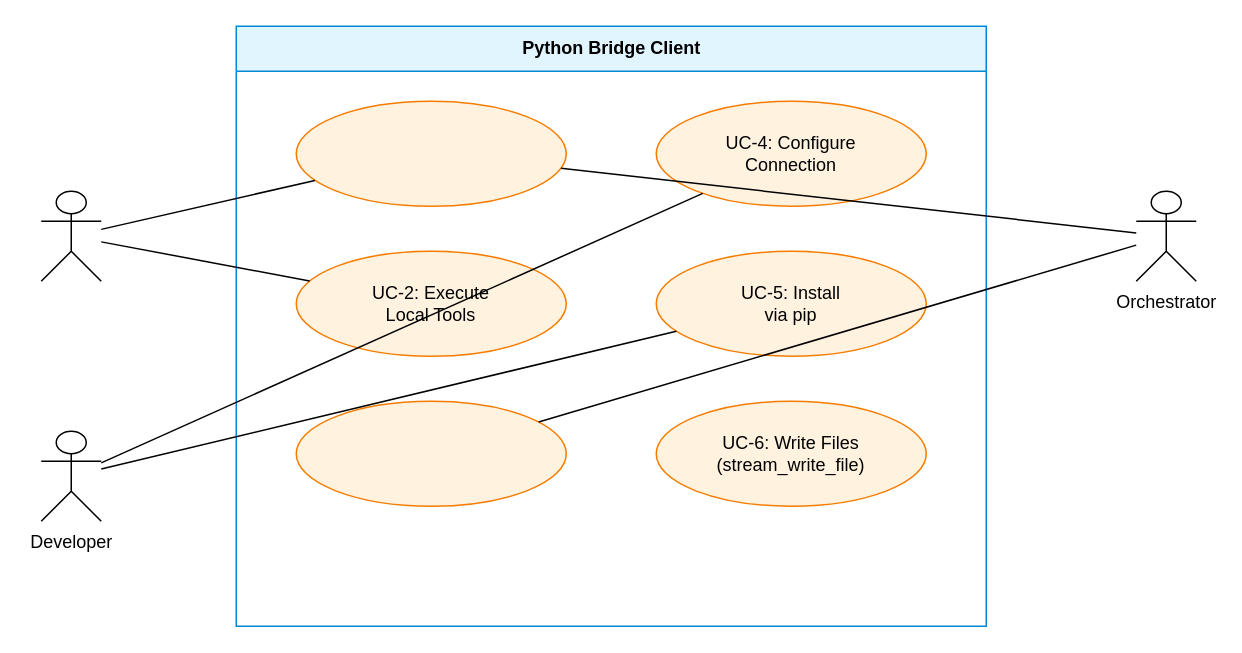
Image size: 1242x653. Some labels were removed from this diagram. The centre of each missing label's shape, as x and y in pixels:
IDE / Agent: point 70,235
UC-1: Proxy Tool Calls to Orchestrator: point 430,153
UC-3: Auto-Reconnect & Health Check: point 430,453
